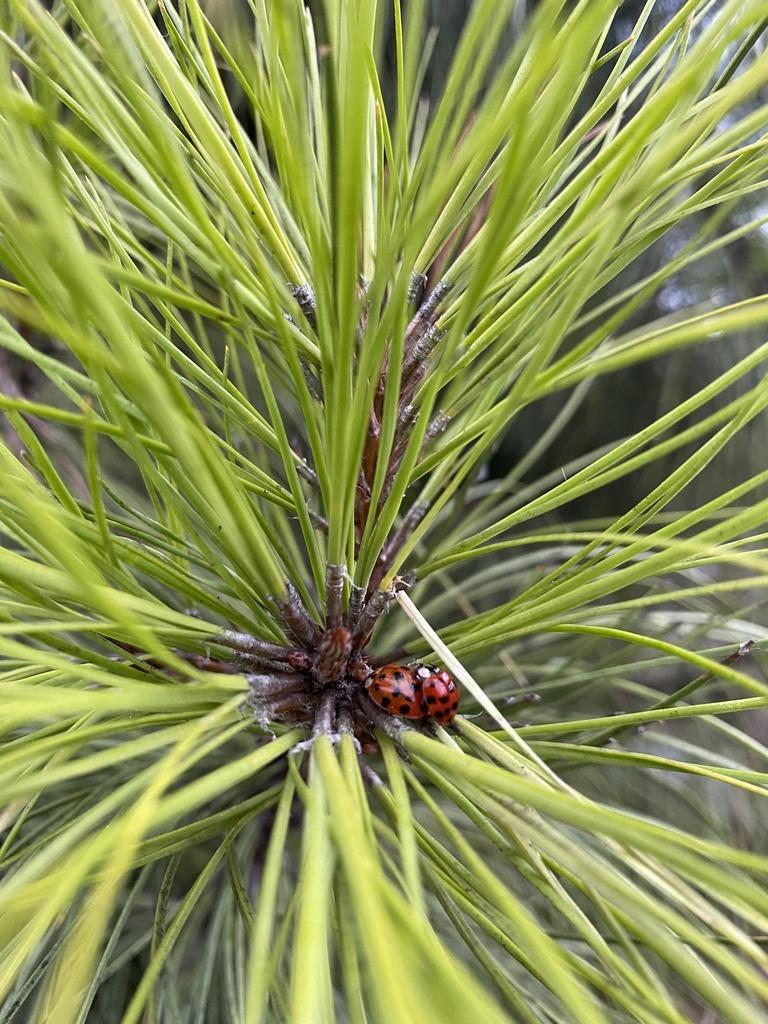ladybug: (362, 662, 431, 718), (411, 662, 464, 728)
